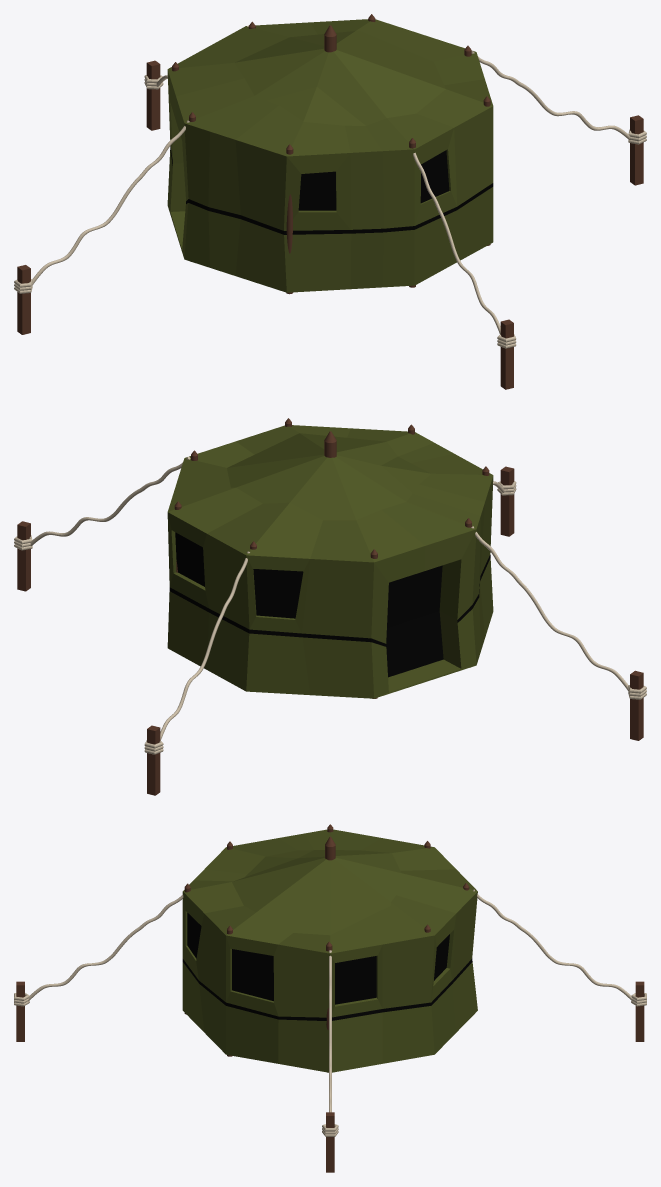
Rendered from MilitaryTent.fbx.
3 views of the same model, one above another, from view 1: azimuth 30°, elevation 25°; view 2: azimuth 150°, elevation 25°; view 3: azimuth 270°, elevation 25° (orthographic). The views are drawn at different scales.
Visible parts, largest first — view 1: Cone; view 2: Cone; view 3: Cone.
Boxes of the visible parts, x1=… form: Cone: x1=14, y1=14, x2=646, y2=389; Cone: x1=14, y1=418, x2=646, y2=795; Cone: x1=14, y1=824, x2=646, y2=1172.
Bounding box in the file's own units: 1707 × 603 × 1704.
